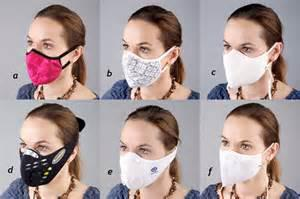OK: (26, 25, 80, 85), (18, 135, 75, 188), (122, 30, 173, 89), (120, 136, 173, 191), (223, 36, 279, 87), (220, 134, 272, 186)
